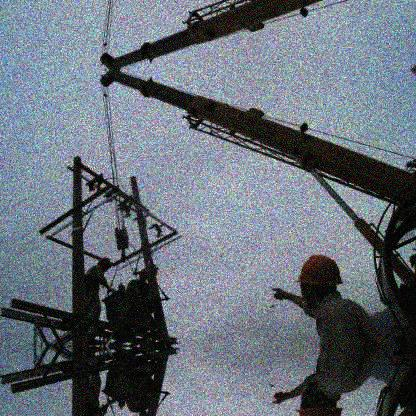helmet: (99, 255, 114, 271)
